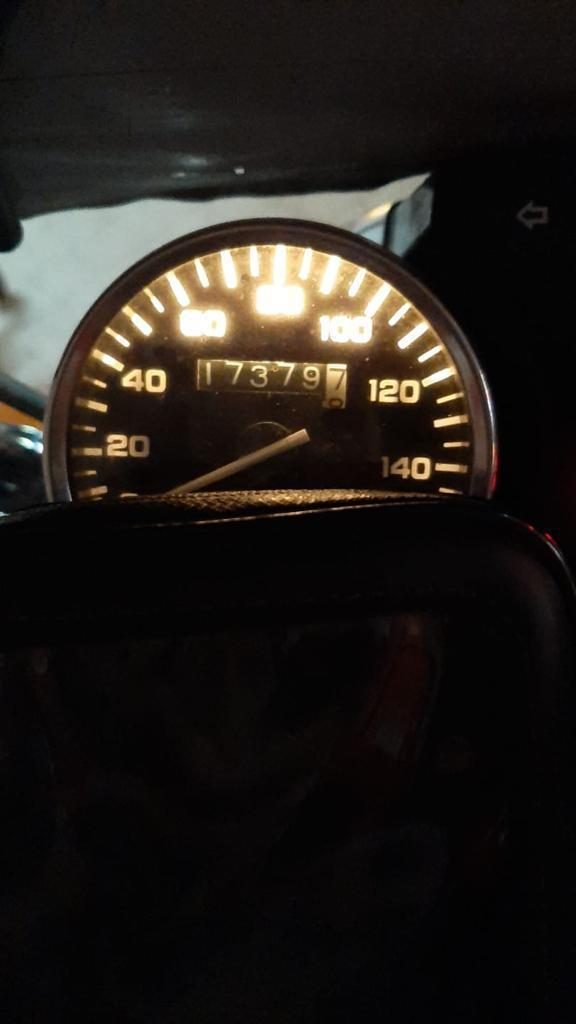1: (202, 358, 218, 392)
3: (247, 364, 269, 390)
7: (223, 357, 244, 386), (276, 359, 296, 387), (328, 362, 347, 391)
9: (302, 365, 322, 392)
odometer: (192, 349, 361, 418)
